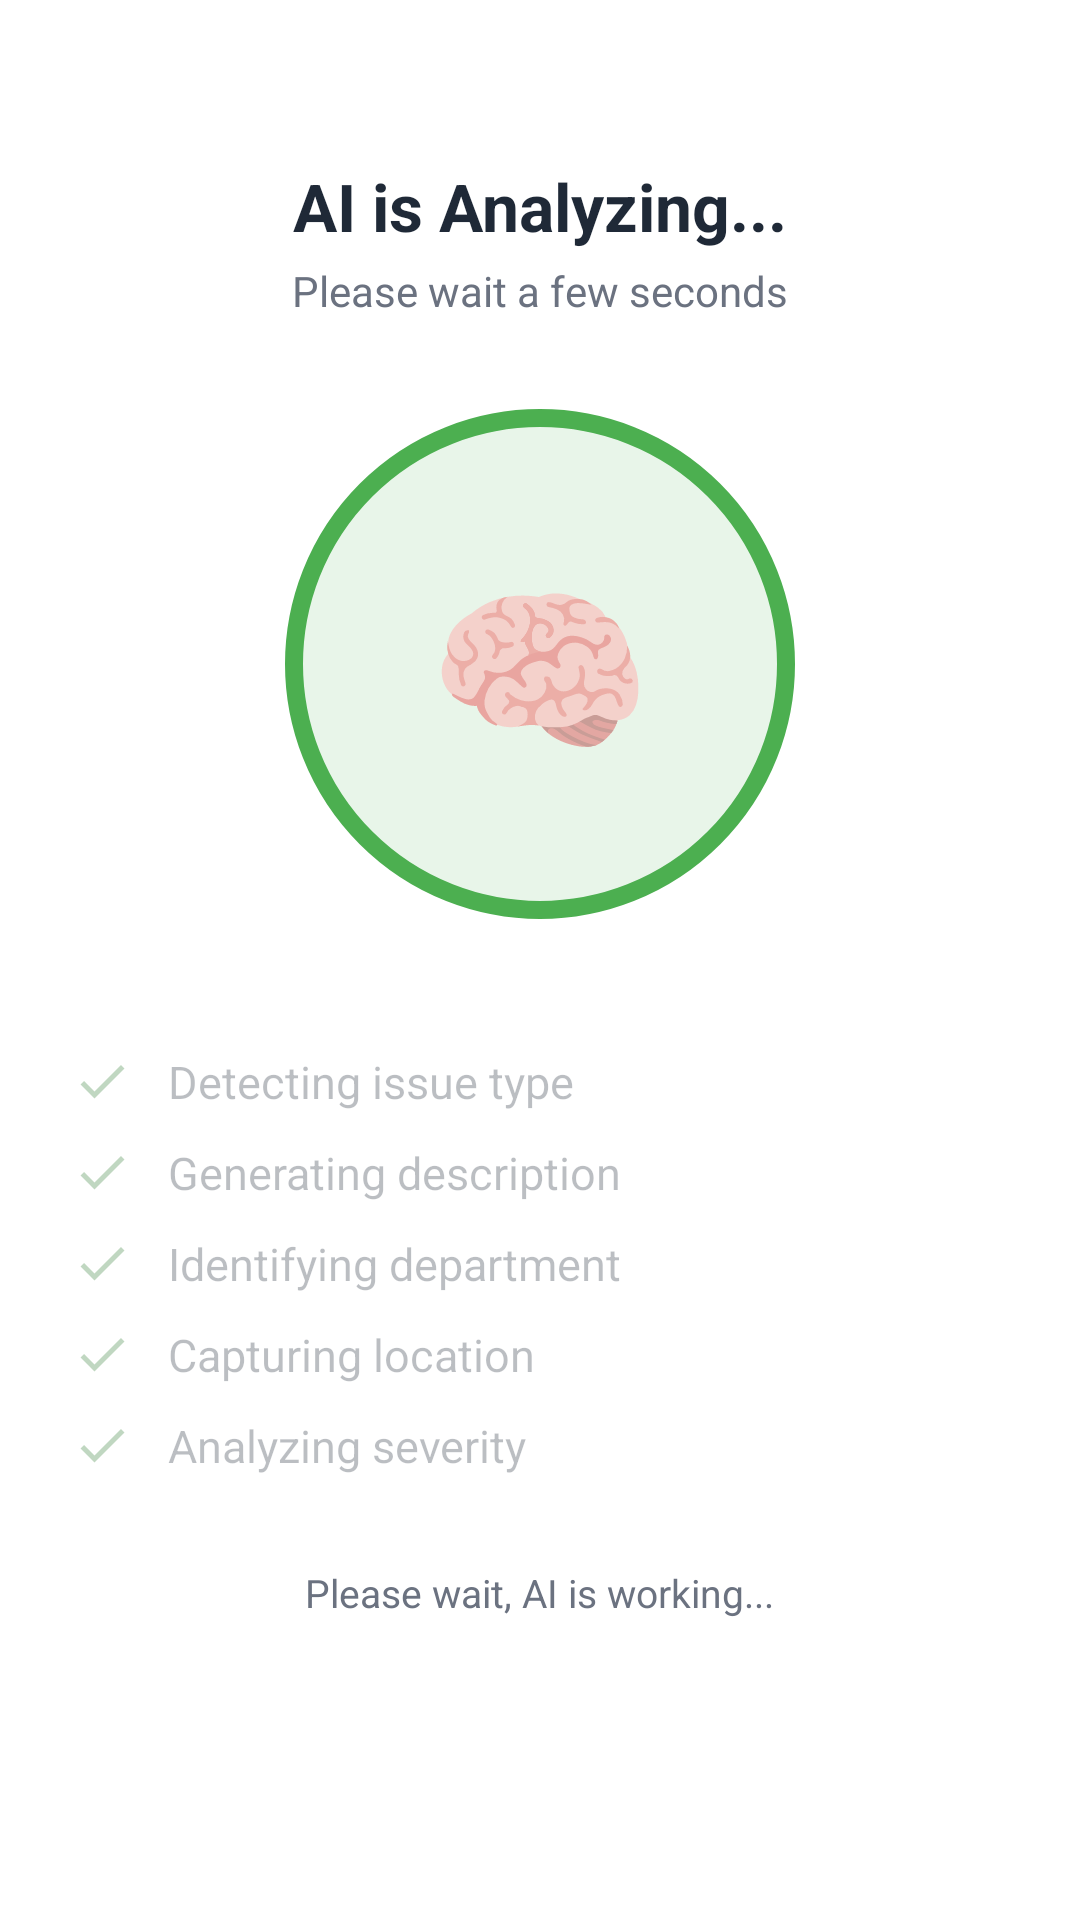

Screen size 1080 × 1920. Icon name, then its box in pixels as (x1, y1, x2, y2):
check: (81, 1065, 124, 1098), (81, 1156, 124, 1189), (81, 1247, 124, 1280), (81, 1338, 124, 1371), (81, 1429, 124, 1462)
